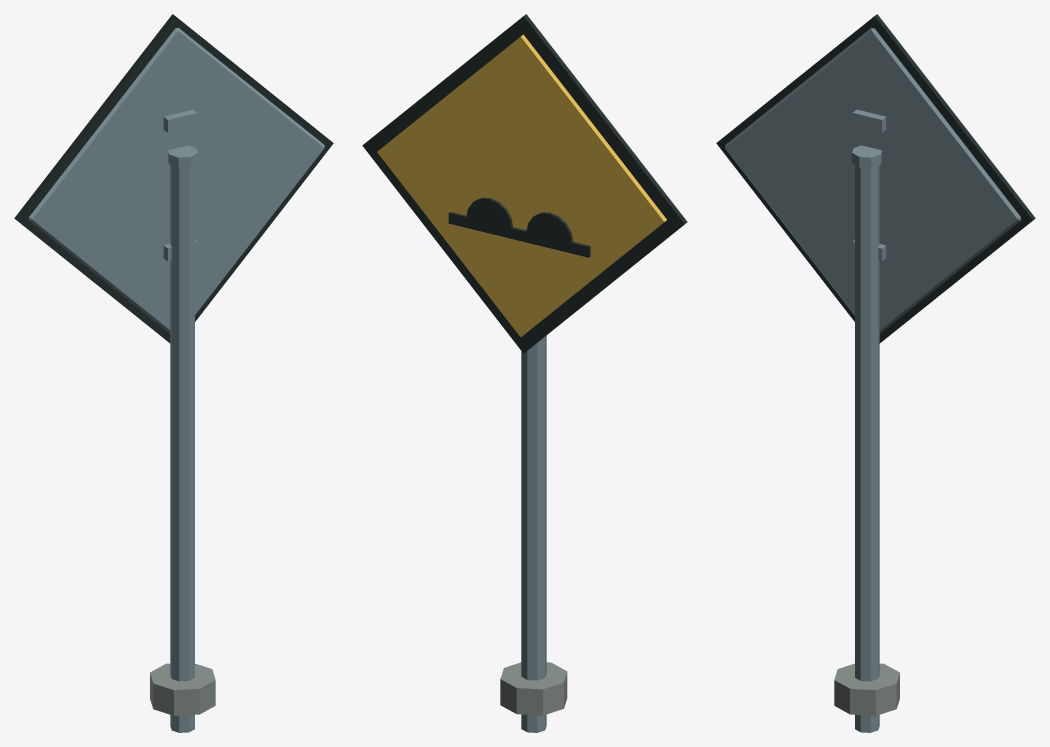
The model's file is sm_env_sign_speed_bump.glb.
3 views of the same model, side by side, from view 1: azimuth 30°, elevation 25°; view 2: azimuth 150°, elevation 25°; view 3: azimuth 330°, elevation 25° (orthographic).
Parts seen in each view (by area): view 1: SignBack, SignPost, SignBorder, PostBase, SignBracket.001, PostCap; view 2: SignPanel, SignBorder, SignPost, PostBase, Road, Bump.001, Bump; view 3: SignBack, SignPost, SignBorder, PostBase, SignBracket.001, PostCap.
Boxes of the visible parts, x1,y1,x2,y2 form: SignBack: (29, 28, 324, 333); SignPost: (170, 165, 194, 732); SignBorder: (14, 14, 333, 343); PostBase: (150, 663, 215, 715); SignBracket.001: (163, 109, 197, 132); PostCap: (168, 145, 197, 167); SignPanel: (377, 34, 666, 337); SignBorder: (362, 14, 687, 353); SignPost: (521, 335, 546, 732); PostBase: (500, 662, 567, 715); Road: (448, 212, 590, 257); Bump.001: (526, 212, 573, 242); Bump: (466, 197, 512, 228); SignBack: (725, 28, 1020, 333); SignPost: (855, 165, 879, 732); SignBorder: (716, 14, 1035, 343); PostBase: (834, 663, 899, 715); SignBracket.001: (852, 109, 886, 132); PostCap: (852, 145, 881, 167).
Size of the model in its own units: 1.29 by 2.74 by 0.24.
